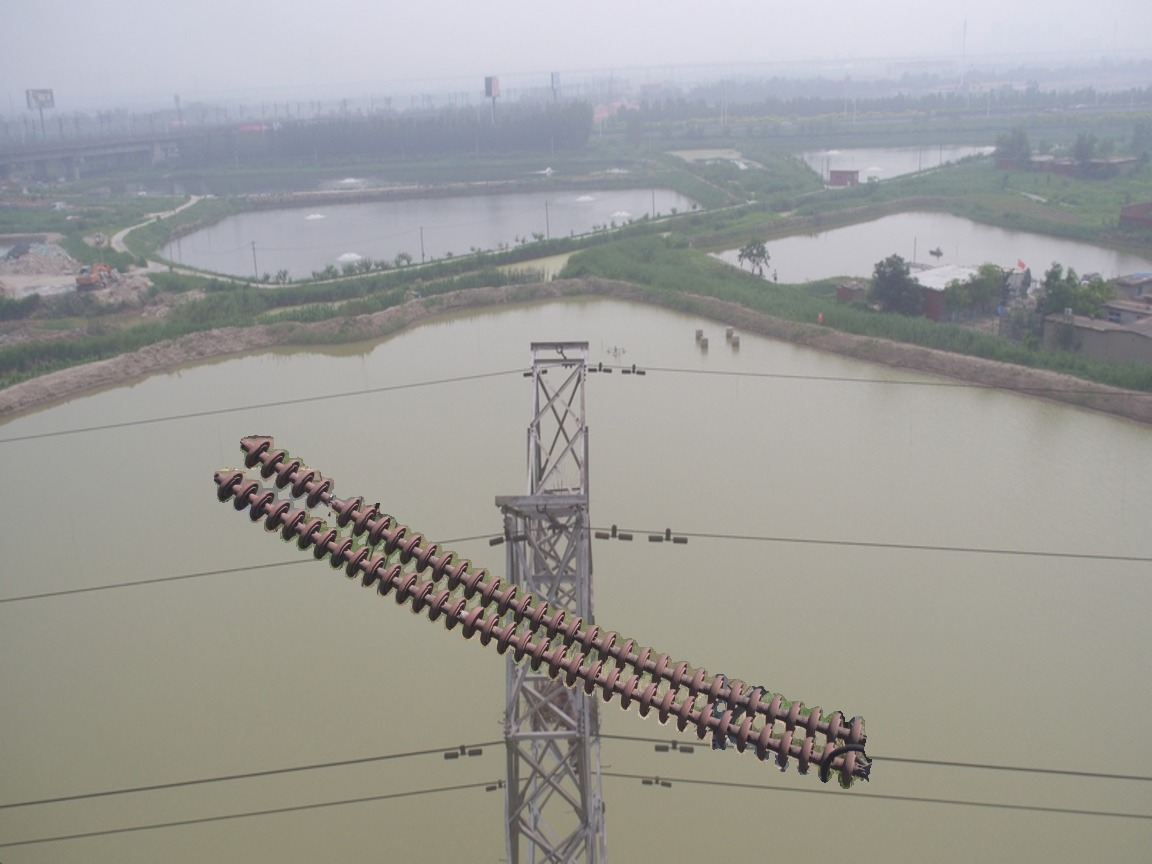defect: (304, 475, 364, 529)
